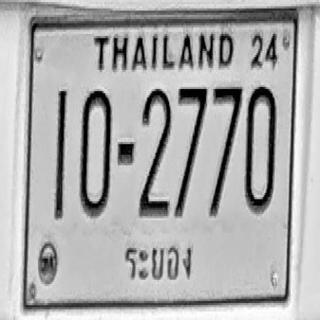N00: (79, 88, 112, 215), (245, 83, 276, 212)
N01: (54, 88, 66, 217)
N02: (140, 86, 171, 215)
N07: (209, 83, 242, 216), (175, 83, 207, 216)
P53: (121, 232, 196, 291)
